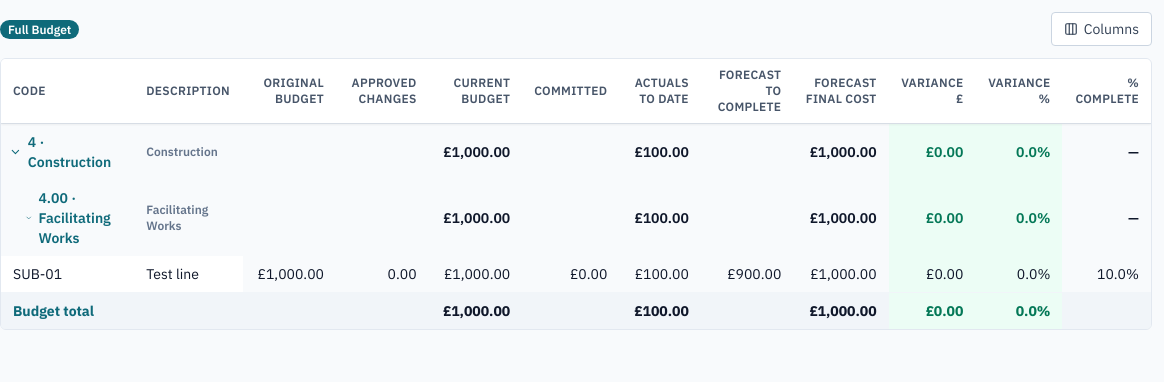
BudgetJobCostingGrid › column picker hides a column and persists to localStorage
Expected: the cell with test id "budget-grid-cell-line-1-actuals_to_date" is shown, [619,256,701,292]
Click the button with test id "budget-grid-column-picker-toggle" at (1101, 29), box [1051,12,1152,46]
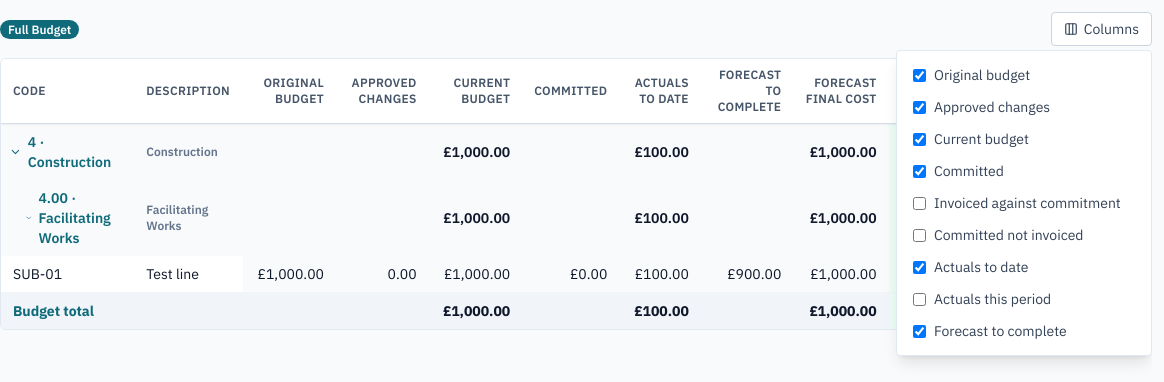
Click the checkbox with test id "budget-grid-column-picker-actuals_to_date" at (920, 267), box [913,260,926,274]
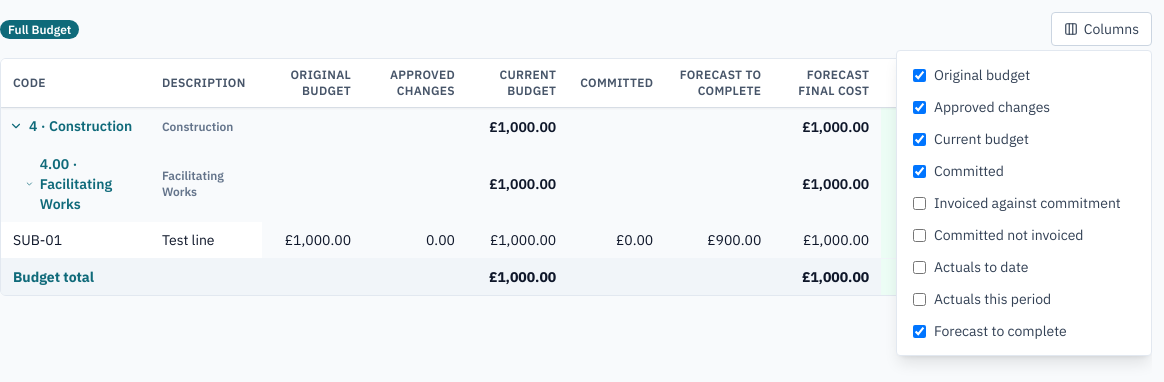
Expected: the cell with test id "budget-grid-cell-line-1-actuals_to_date" is gone
